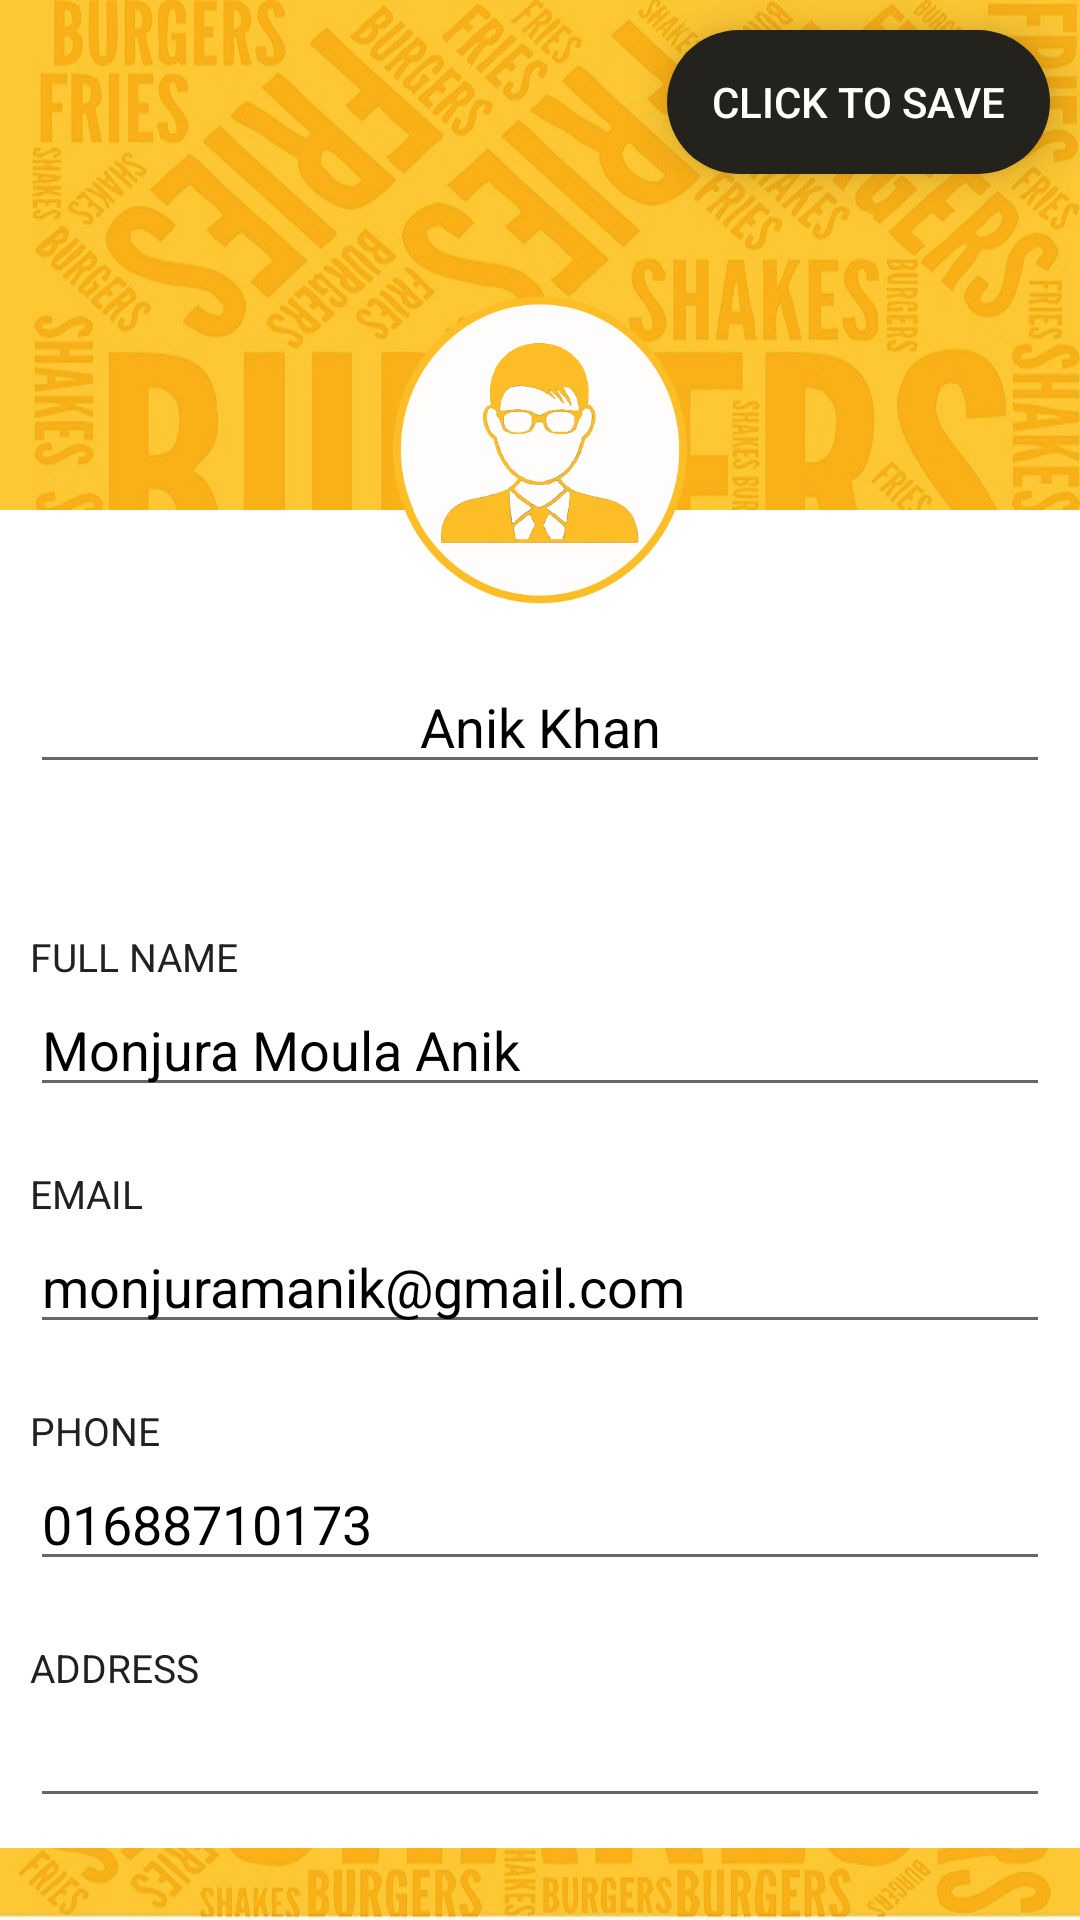

Point at icon controls on the screen. Image size 1080 x 1920, points as (x,y).
male: (540,450)
